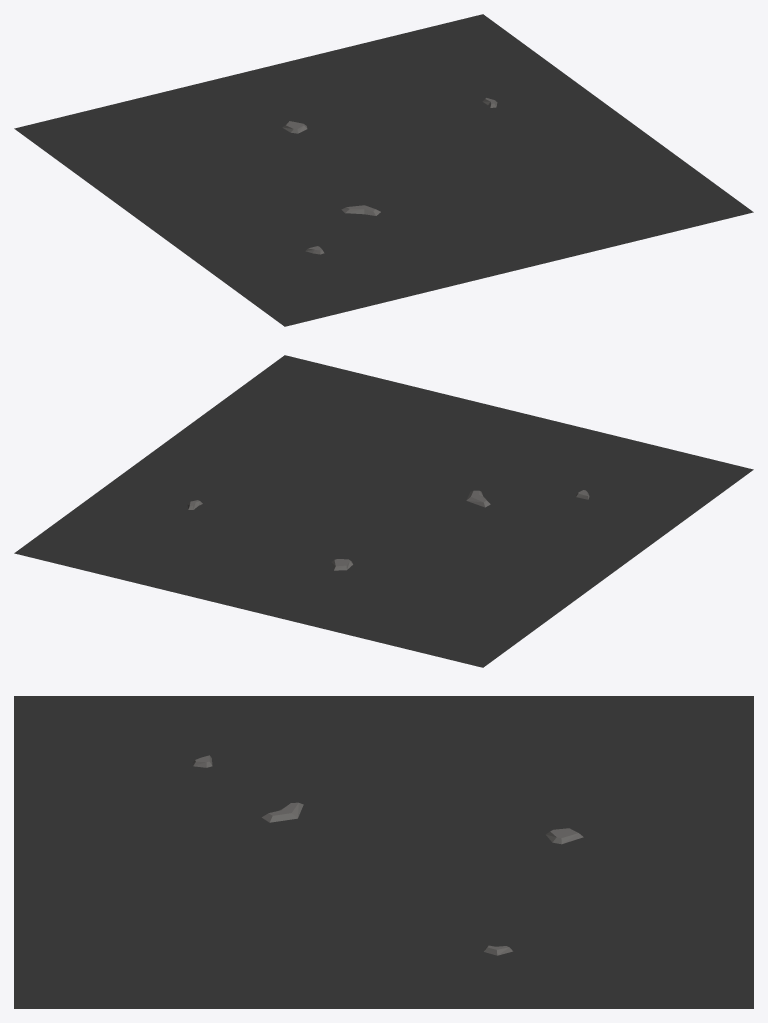
Rendered from Asphalt_04.FBX.
3 views of the same model, one above another, from view 1: azimuth 30°, elevation 25°; view 2: azimuth 150°, elevation 25°; view 3: azimuth 270°, elevation 25° (orthographic). The views are drawn at different scales.
Visible parts, largest first — view 1: Asphalt_04; view 2: Asphalt_04; view 3: Asphalt_04.
Part boxes in pixels (x1,y1,x2,y2): Asphalt_04: [14, 14, 753, 326]; Asphalt_04: [14, 355, 753, 667]; Asphalt_04: [14, 696, 753, 1008].
Bounding box in the file's own units: 5 × 0.0302 × 5.
